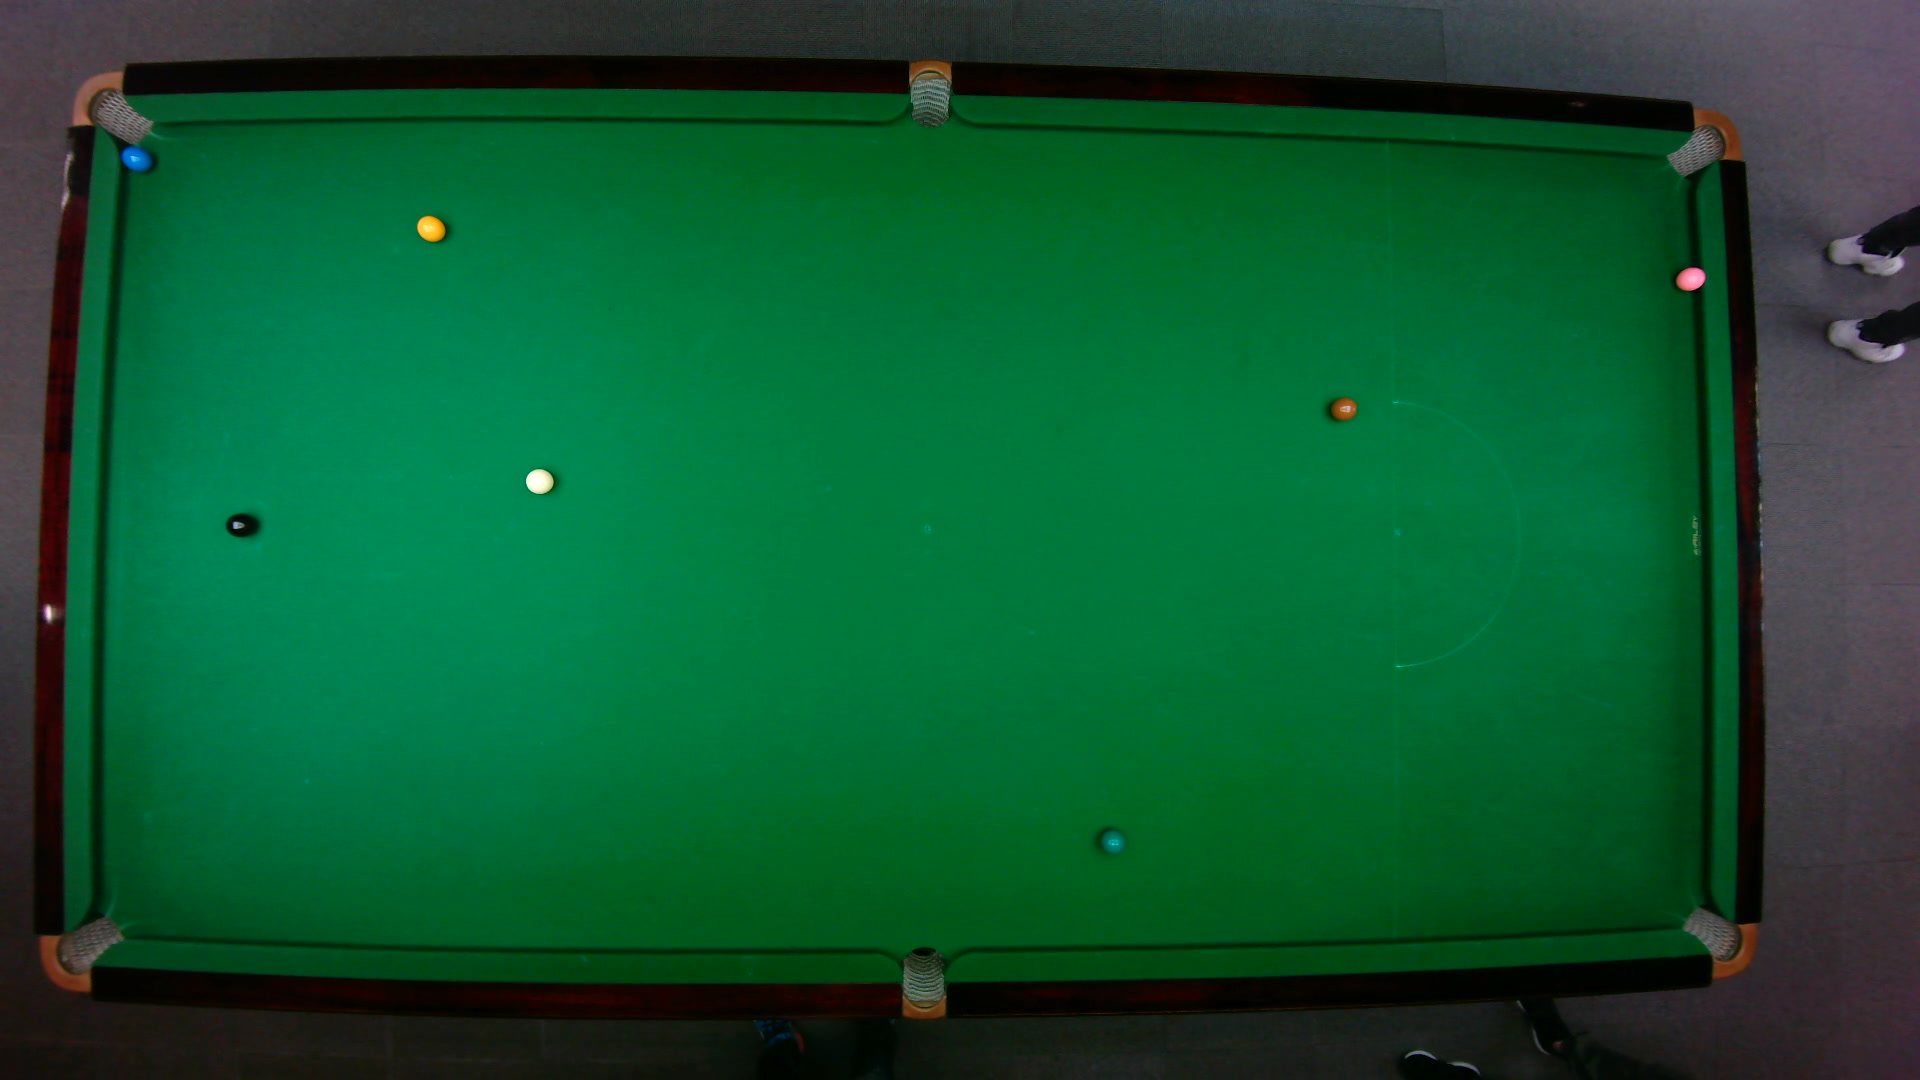bag: (37, 913, 125, 992), (69, 69, 153, 146), (1677, 905, 1756, 978), (1663, 107, 1742, 177), (901, 944, 944, 1021), (909, 58, 949, 128)
black: (223, 512, 256, 538)
blue: (117, 144, 153, 171)
brown: (1328, 396, 1358, 421)
green: (1098, 825, 1126, 855)
pink: (1673, 262, 1706, 291)
white: (522, 467, 555, 495)
yellow: (414, 212, 446, 243)
zone: (1390, 400, 1519, 669)
